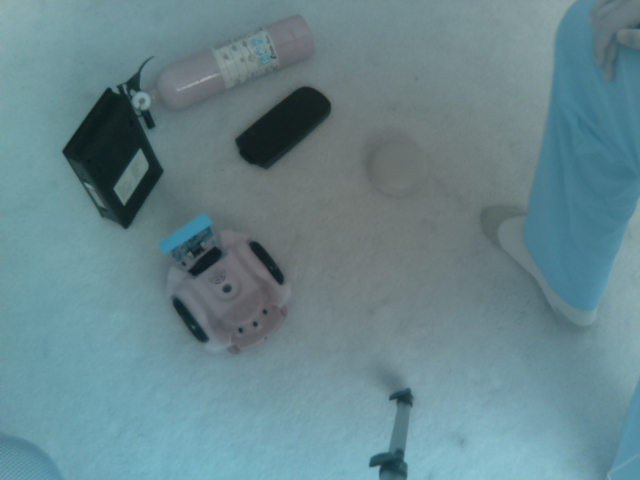board: (154, 210, 212, 259)
chassis: (142, 208, 301, 359)
